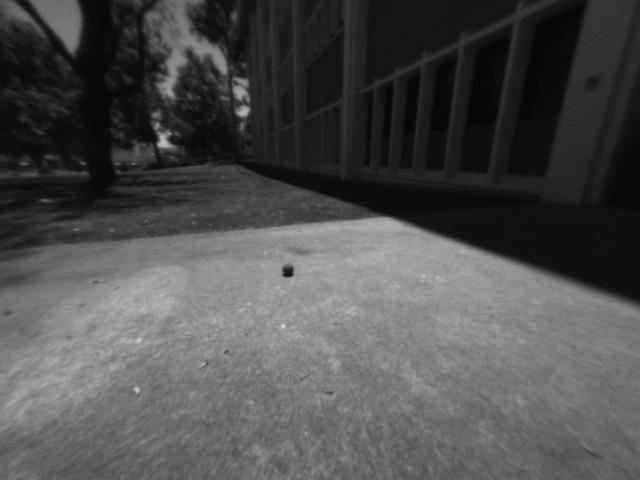dogtoy: (274, 259, 304, 280)
